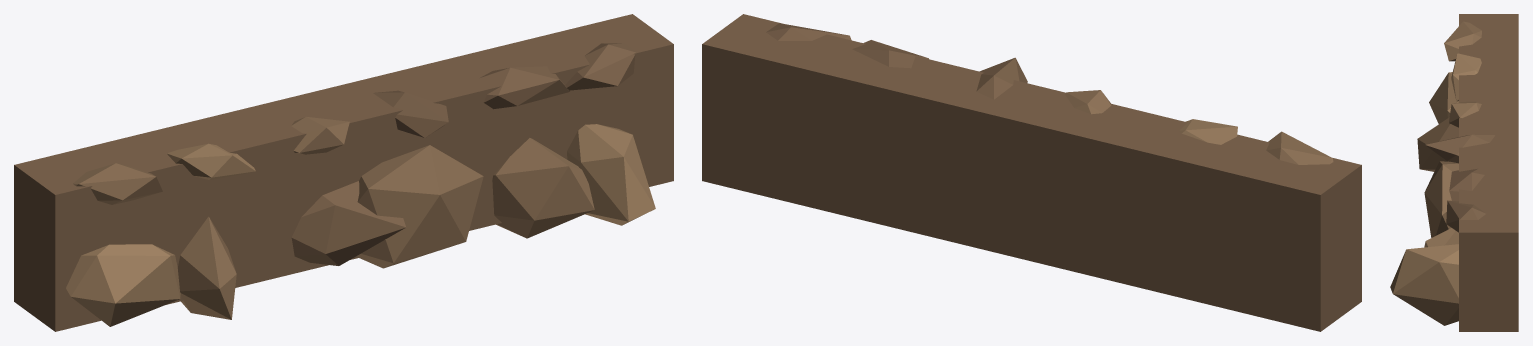
The model's file is NorthCliff2.glb.
3 views of the same model, side by side, from view 1: azimuth 30°, elevation 25°; view 2: azimuth 150°, elevation 25°; view 3: azimuth 270°, elevation 25° (orthographic). The views are drawn at different scales.
Visible parts, largest first — view 1: NorthCliff2.001; view 2: NorthCliff2.001; view 3: NorthCliff2.001.
Part boxes in pixels (<box>): NorthCliff2.001: <box>14,14,673,331</box>; NorthCliff2.001: <box>702,14,1361,331</box>; NorthCliff2.001: <box>1390,14,1518,331</box>.
Size of the model in its own units: 10.4 by 2.69 by 2.58.
